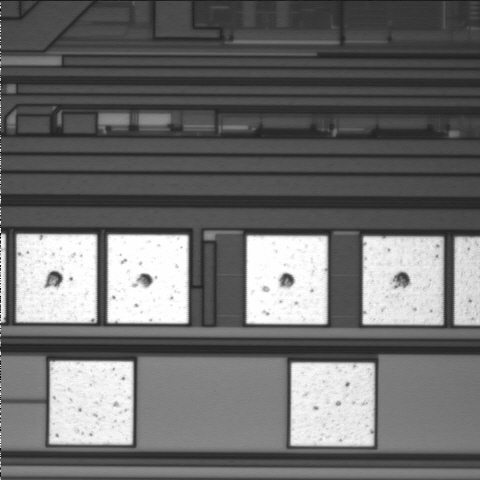pad: (246, 236, 328, 324), (16, 234, 97, 323), (363, 236, 443, 325), (49, 361, 133, 445), (108, 235, 188, 323), (291, 363, 375, 446)
